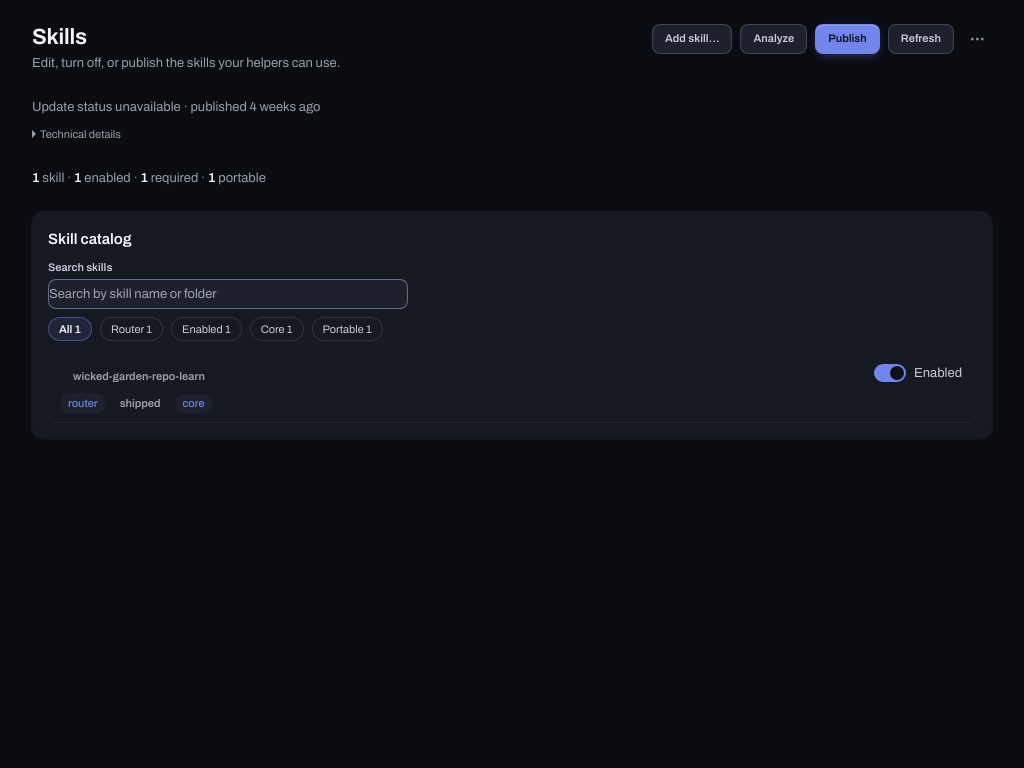
Test case: the skill drawer and the page header (studio#515) › the drawer is pinned below the header, so Refresh baseline / Analyze / Publish / the re-read stay reachable
The image size is (1024, 768).
Click the list item with test id "skills-row": point(512, 388) [48,353,976,423]
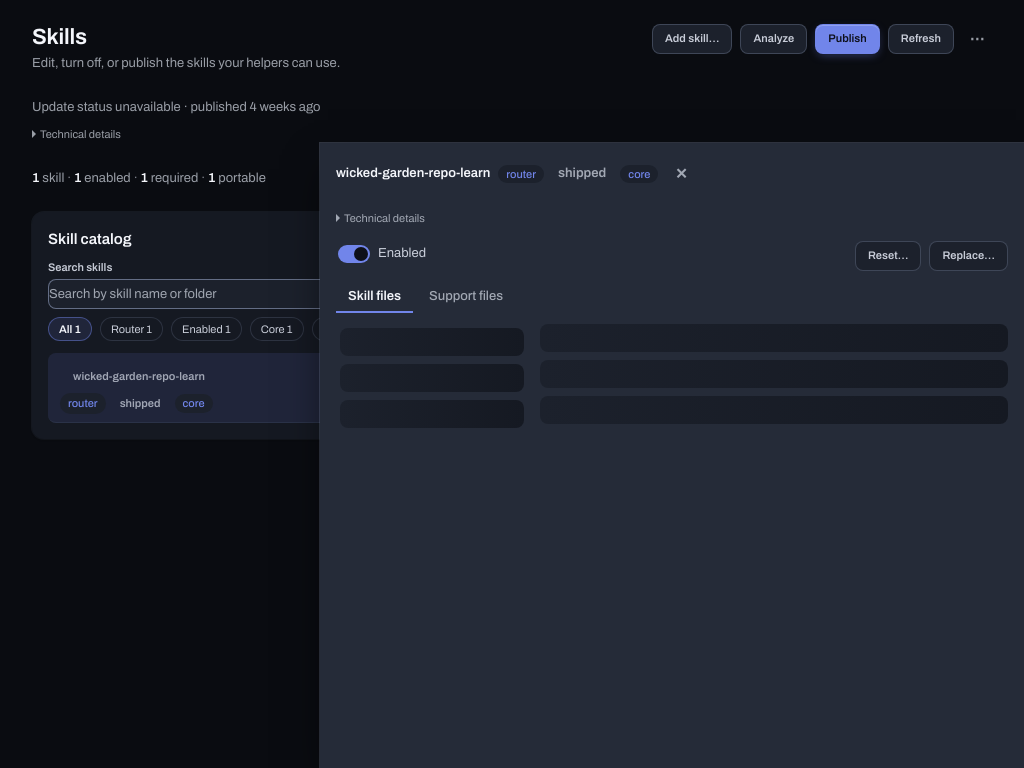
// The verbs are still in the header, with the drawer open.
Click the button named "More actions for skills": point(977, 39) [962,24,992,54]
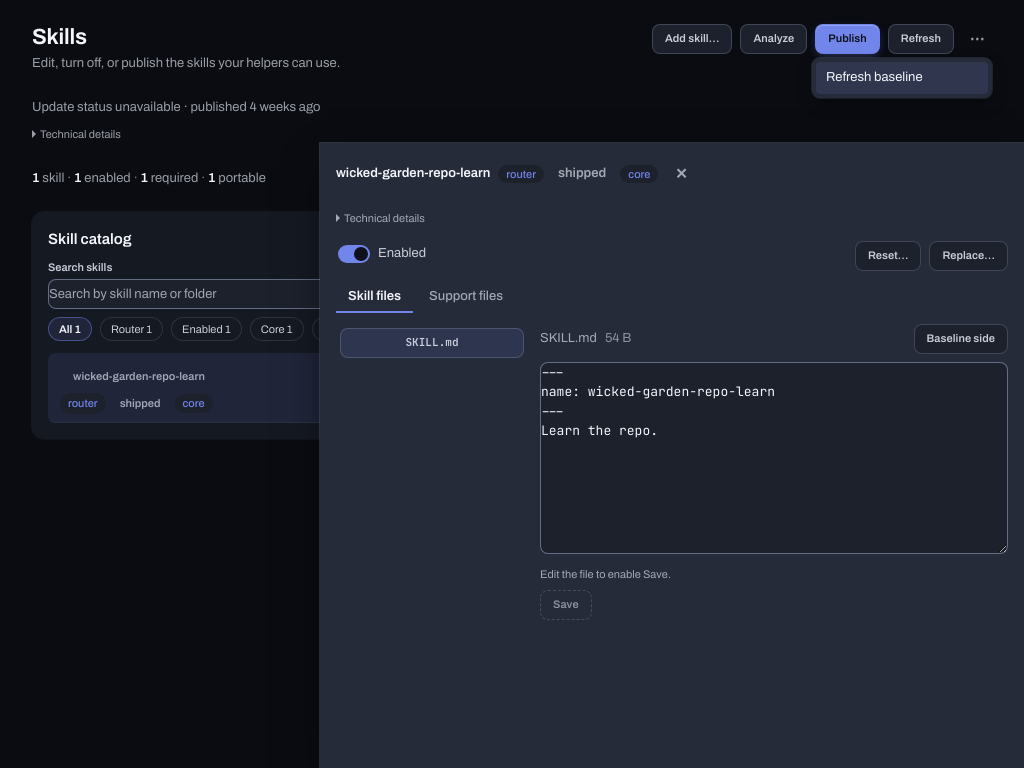
Result: the menu item "Refresh baseline" is shown at [816,62,988,94]
